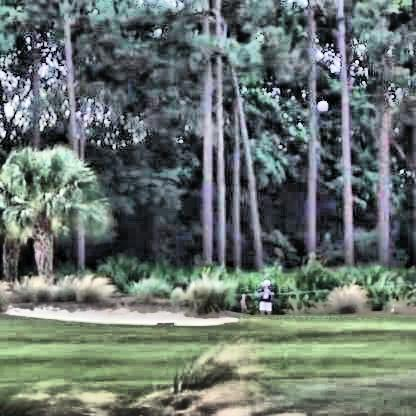golfball: (314, 98, 325, 108)
